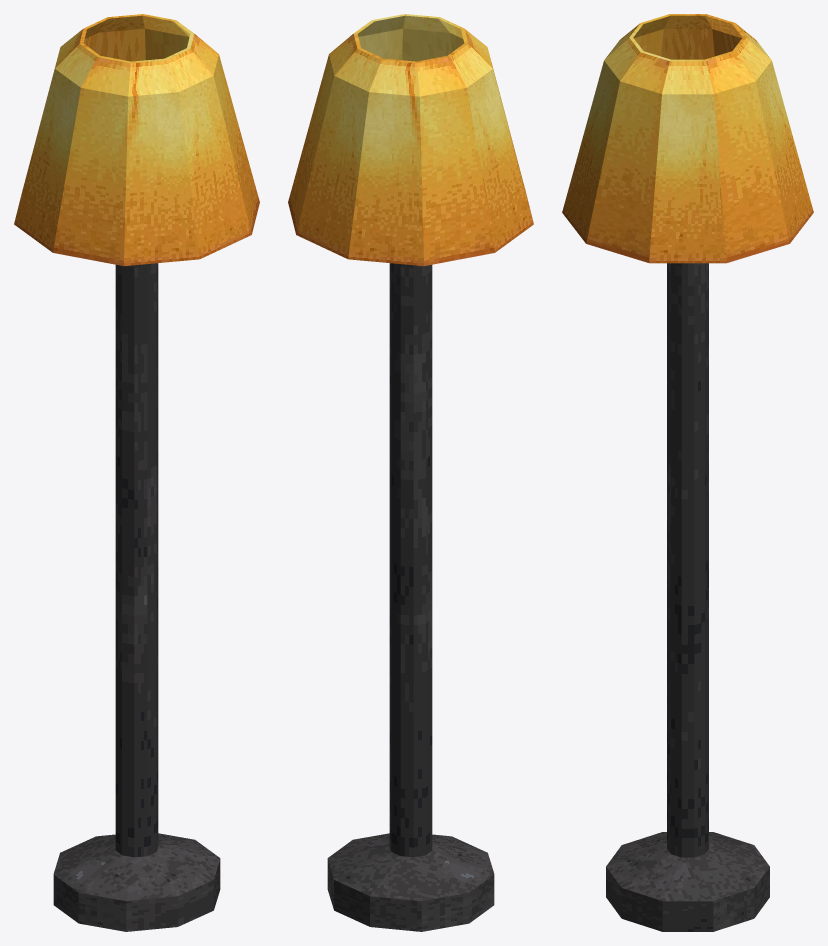
Rendered from LeggedLamp.glb.
3 renders of one model, left to right at view 1: azimuth 30°, elevation 25°; view 2: azimuth 150°, elevation 25°; view 3: azimuth 270°, elevation 25°, orthographic.
Visible parts, largest first — view 1: Cylinder.001, LeggedLamb; view 2: Cylinder.001, LeggedLamb; view 3: Cylinder.001, LeggedLamb.
Boxes of the visible parts, <box> form: Cylinder.001: <box>14,14,259,266</box>; LeggedLamb: <box>53,263,220,931</box>; Cylinder.001: <box>288,14,533,266</box>; LeggedLamb: <box>327,263,494,931</box>; Cylinder.001: <box>562,14,813,263</box>; LeggedLamb: <box>606,263,769,931</box>.
Bounding box in the file's own units: 0.2853 × 1.13 × 0.3.
2 materials, 2 textured.
